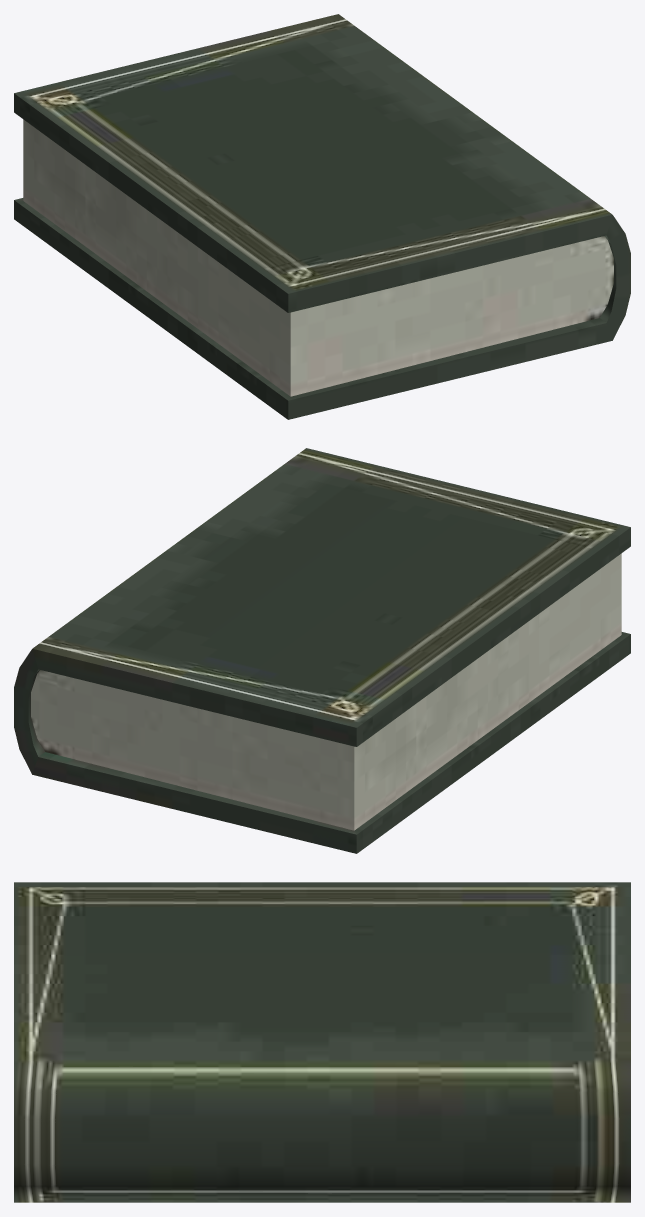
3 renders of one model, top to bottom at view 1: azimuth 30°, elevation 25°; view 2: azimuth 150°, elevation 25°; view 3: azimuth 270°, elevation 25°, orthographic. The views are drawn at different scales.
Parts seen in each view (by area): view 1: prop_book_03_inst_002; view 2: prop_book_03_inst_002; view 3: prop_book_03_inst_002.
Boxes of the visible parts, bbox=[...] form: prop_book_03_inst_002: bbox=[14, 14, 630, 419]; prop_book_03_inst_002: bbox=[14, 448, 630, 853]; prop_book_03_inst_002: bbox=[14, 882, 630, 1202].
Bounding box in the file's own units: 0.302 × 0.1061 × 0.4183.
1 material, 1 textured.
